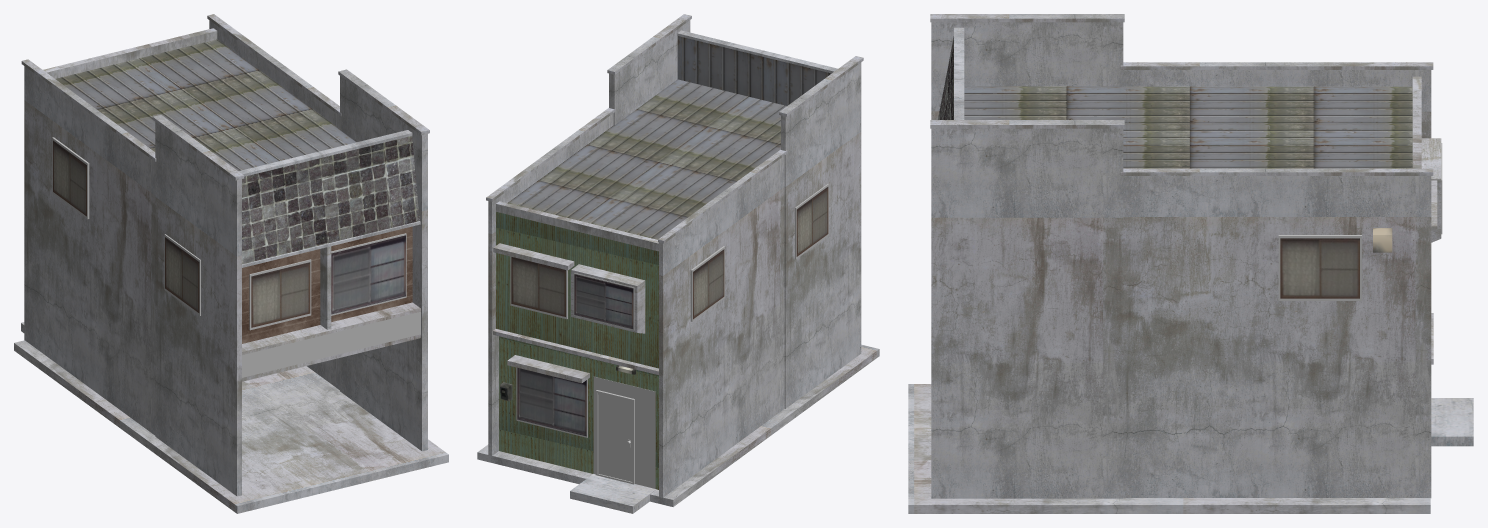
3 renders of one model, left to right at view 1: azimuth 30°, elevation 25°; view 2: azimuth 150°, elevation 25°; view 3: azimuth 270°, elevation 25°, orthographic. The views are drawn at different scales.
Visible parts, largest first — view 1: ms_h03_1; view 2: ms_h03_1; view 3: ms_h03_1.
Part boxes in pixels (x1,y1,x2,y2): ms_h03_1: (14,14,448,513); ms_h03_1: (477,14,879,513); ms_h03_1: (908,14,1473,513).
Size of the model in its own units: 609 by 901 by 1204.
